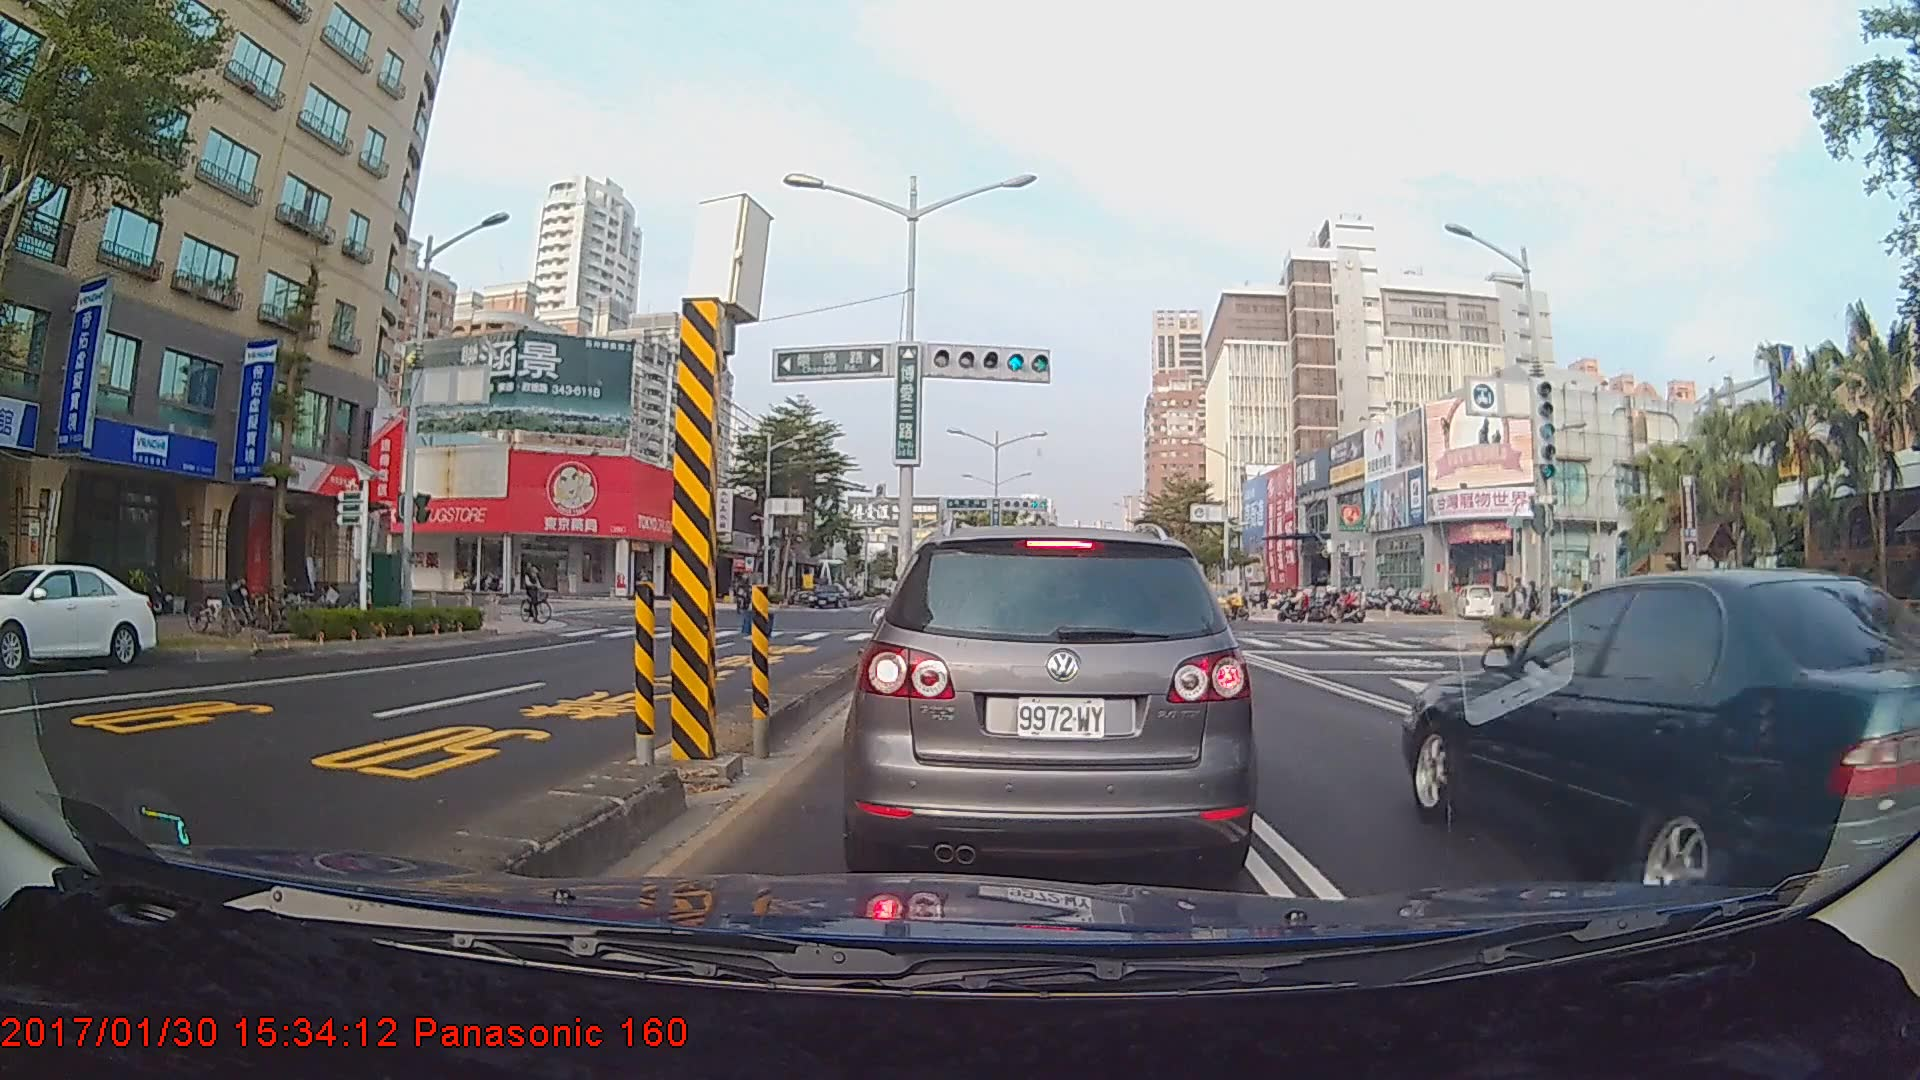rider: (518, 559, 561, 629)
vehicle: (1368, 566, 1920, 900), (853, 518, 1251, 876), (0, 561, 160, 671), (808, 584, 847, 609)
